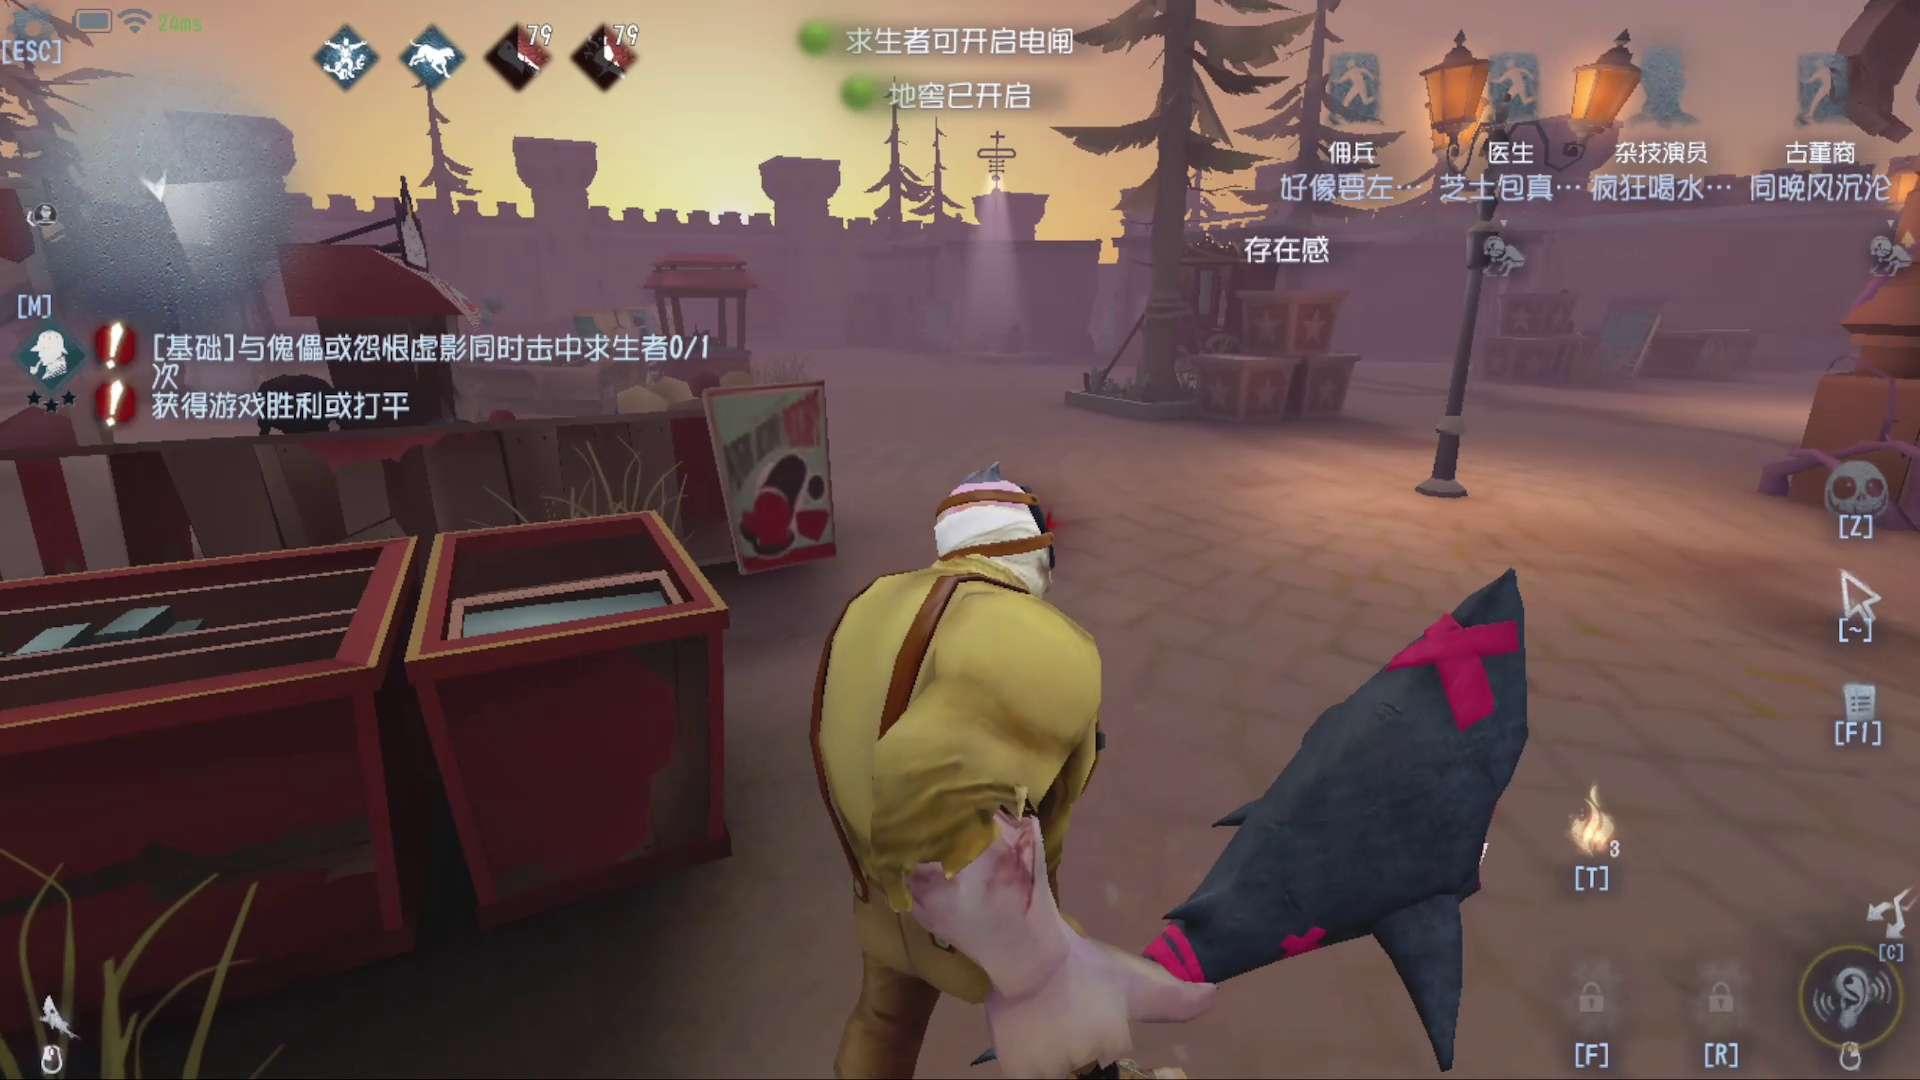木板: (560, 299, 687, 384), (1597, 298, 1662, 396), (923, 281, 975, 349), (1083, 301, 1124, 375)
